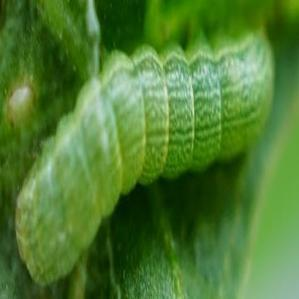Beet armyworm: (11, 20, 286, 285)
